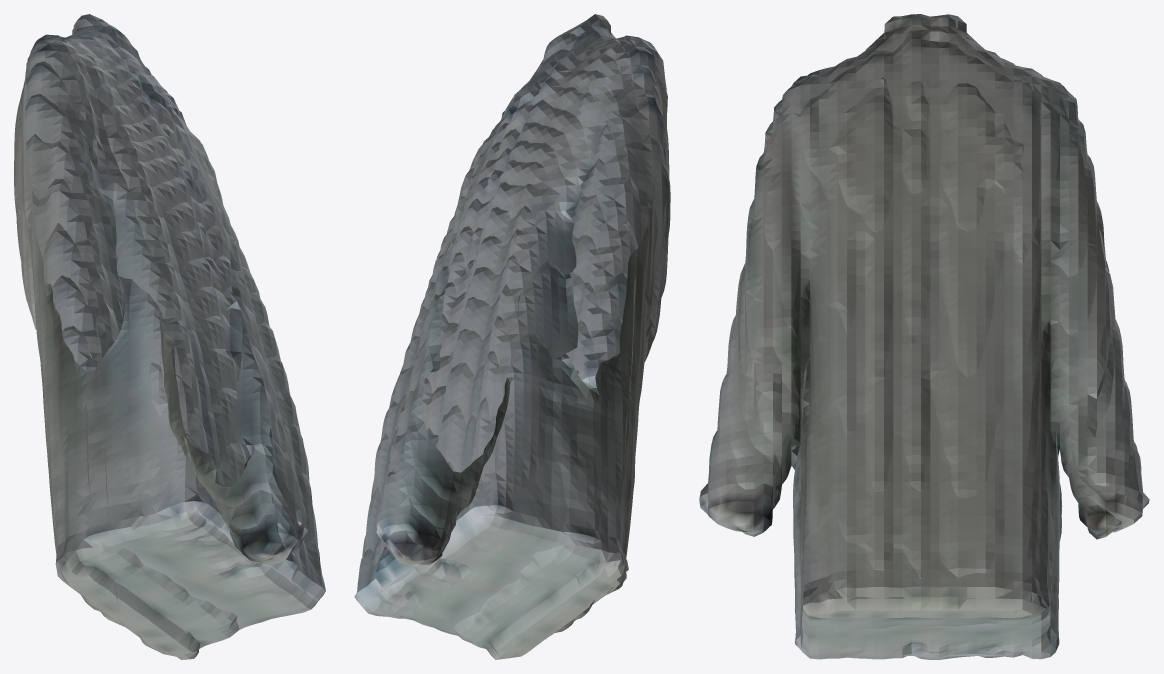
The model's file is eB2ukaigB7ZRn4QmJm81-draft.glb.
3 views of the same model, side by side, from view 1: azimuth 30°, elevation 25°; view 2: azimuth 150°, elevation 25°; view 3: azimuth 270°, elevation 25° (orthographic).
Visible parts, largest first — view 1: world; view 2: world; view 3: world.
Part boxes in pixels (left/top/right/bottom): world: left=14, top=14, right=325, bottom=659; world: left=354, top=14, right=670, bottom=659; world: left=699, top=14, right=1149, bottom=659.
Size of the model in its own units: 0.3519 by 0.9584 by 0.6664.
